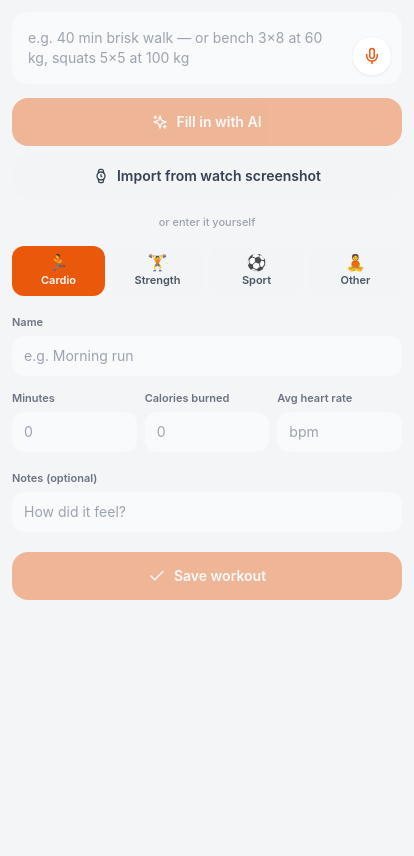
Test: WorkoutForm › shows a friendly error with Try again
This screenshot has width=414, height=856.
Replace the text in the text box with placeholder "brisk walk" with "yoga" at (207, 48), box [12, 12, 402, 84]
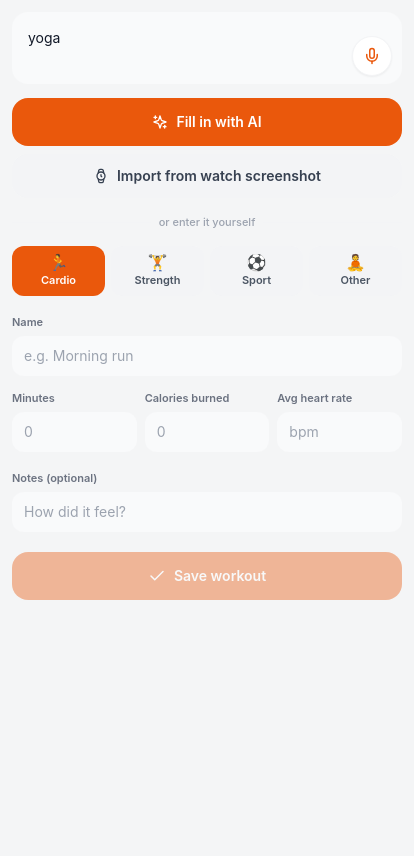
Click the button "Fill in with AI" at (207, 122), box [12, 98, 402, 146]
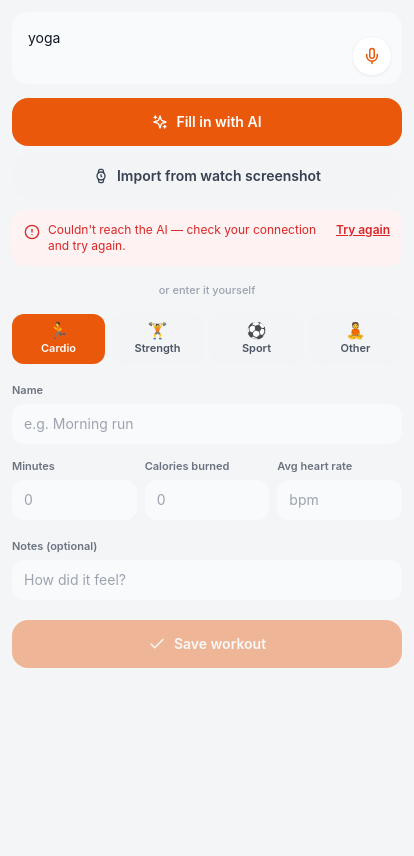
Now the text "Couldn't reach the AI — check your connection and try again." is shown, box [48, 222, 328, 254]
Now the button "Try again" is shown, box [336, 222, 390, 238]
